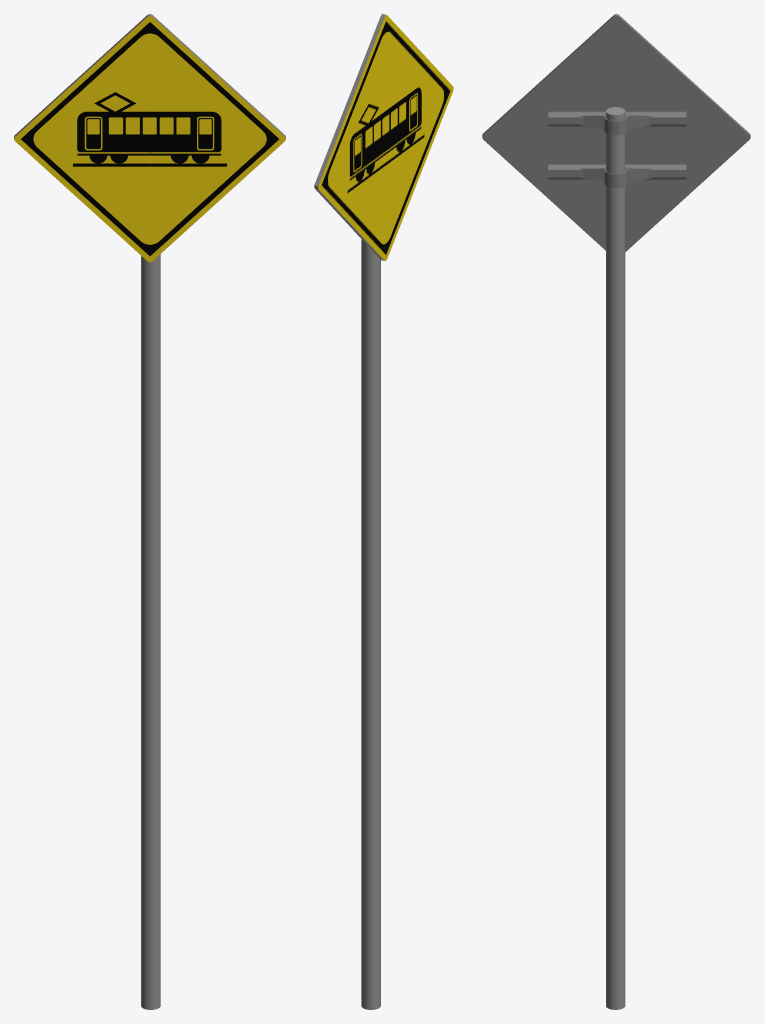
3 views of the same model, side by side, from view 1: azimuth 90°, elevation 25°; view 2: azimuth 150°, elevation 25°; view 3: azimuth 270°, elevation 25° (orthographic).
Visible parts, largest first — view 1: 011, Prop; view 2: 011, Prop; view 3: 011, Prop.
Part boxes in pixels (x1,y1,x2,y2): 011: (14, 14, 285, 262); Prop: (141, 254, 160, 1009); 011: (314, 14, 453, 260); Prop: (361, 239, 380, 1009); 011: (482, 14, 750, 251); Prop: (548, 107, 686, 1009).
Size of the model in its own units: 6.76 by 259 by 63.95.
